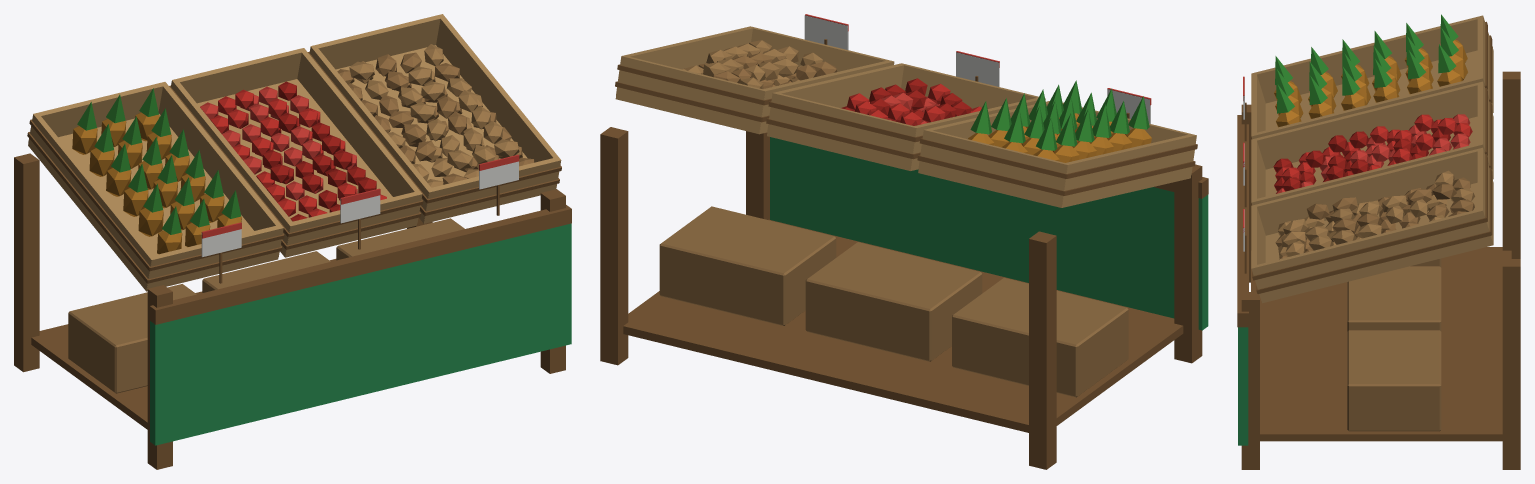
The model's file is ke_rau_qua_3.glb.
The picture shows the model from 3 angles, left to right: view 1: azimuth 30°, elevation 25°; view 2: azimuth 150°, elevation 25°; view 3: azimuth 270°, elevation 25°; orthographic projection. The views are drawn at different scales.
Parts seen in each view (by area): view 1: ke_rau_qua_3; view 2: ke_rau_qua_3; view 3: ke_rau_qua_3.
Boxes of the visible parts, <box> form: ke_rau_qua_3: <box>14,14,571,469</box>; ke_rau_qua_3: <box>600,14,1208,469</box>; ke_rau_qua_3: <box>1237,14,1520,469</box>.
Bounding box in the file's own units: 1.8 × 1.18 × 1.09.
